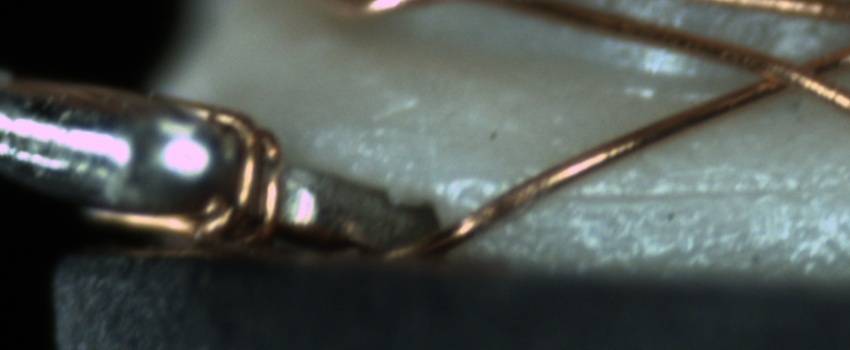CL: (740, 43, 843, 104)
DL: (455, 159, 849, 223)
TE: (77, 88, 297, 244)
